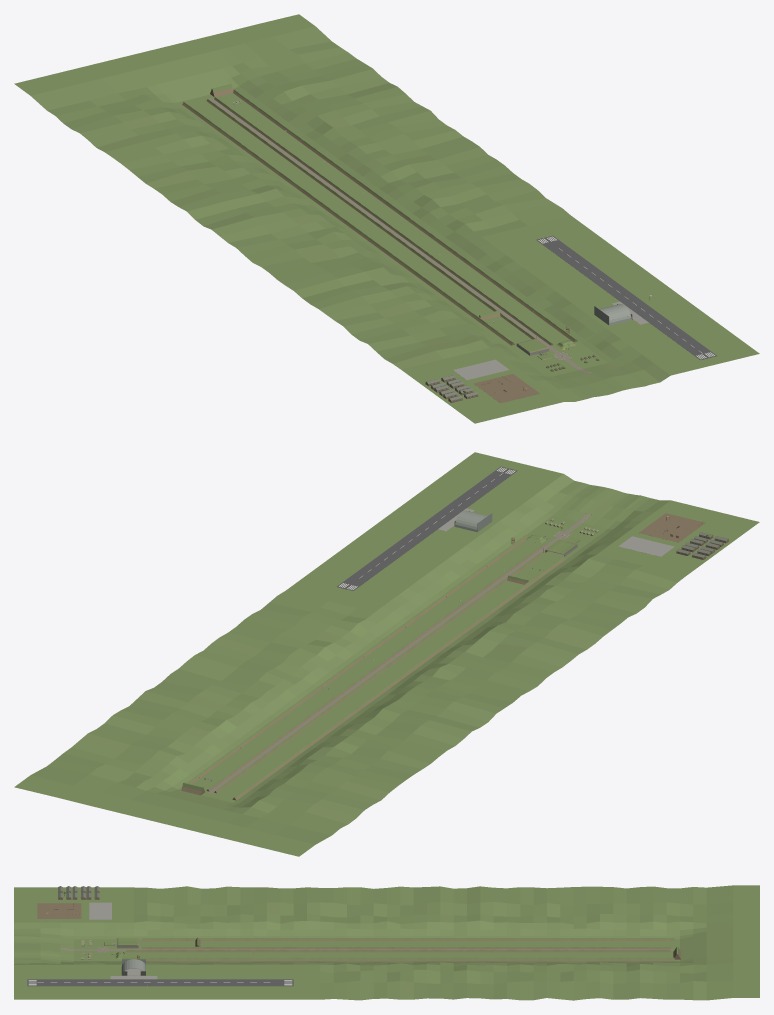
3 renders of one model, top to bottom at view 1: azimuth 30°, elevation 25°; view 2: azimuth 150°, elevation 25°; view 3: azimuth 270°, elevation 25°, orthographic. The views are drawn at different scales.
Visible parts, largest first — view 1: Ground, Ground runway, Berm outer 1, Berm outer -1, Ground road, Berm road 1, Berm road -1, Ground training yard; view 2: Ground, Ground runway, Berm outer 1, Berm outer -1, Ground road, Berm road 1, Berm road -1, Ground training yard; view 3: Ground, Ground runway, Berm outer 1, Berm road 1, Berm road -1, Berm outer -1, Ground training yard, Ground road, Hangar, Ground vehicle park.
Part boxes in pixels (box(x1,y1,x2,y2)): Ground: box(14, 14, 759, 423); Ground runway: box(536, 235, 717, 360); Berm outer 1: box(233, 89, 577, 342); Berm outer -1: box(182, 101, 514, 345); Ground road: box(209, 98, 590, 374); Berm road 1: box(214, 97, 553, 345); Berm road -1: box(206, 98, 535, 339); Ground training yard: box(473, 374, 539, 403); Ground: box(14, 452, 759, 856); Ground runway: box(336, 466, 517, 590); Berm outer 1: box(187, 535, 527, 783); Berm outer -1: box(232, 556, 565, 800); Ground road: box(208, 513, 590, 793); Berm road 1: box(206, 543, 545, 791); Berm road -1: box(214, 552, 543, 793); Ground training yard: box(639, 513, 705, 542); Ground: box(14, 885, 759, 1000); Ground runway: box(27, 979, 293, 986); Berm outer 1: box(122, 957, 674, 960); Berm road 1: box(126, 949, 670, 952); Berm road -1: box(142, 946, 670, 949); Berm outer -1: box(142, 938, 674, 940); Ground training yard: box(37, 903, 81, 918); Ground road: box(60, 947, 673, 950); Hangar: box(121, 959, 145, 975); Ground vehicle park: box(89, 902, 111, 919).
Bounding box in the file's own units: 400 × 26.6 × 1120.
53 materials, 1 textured.
